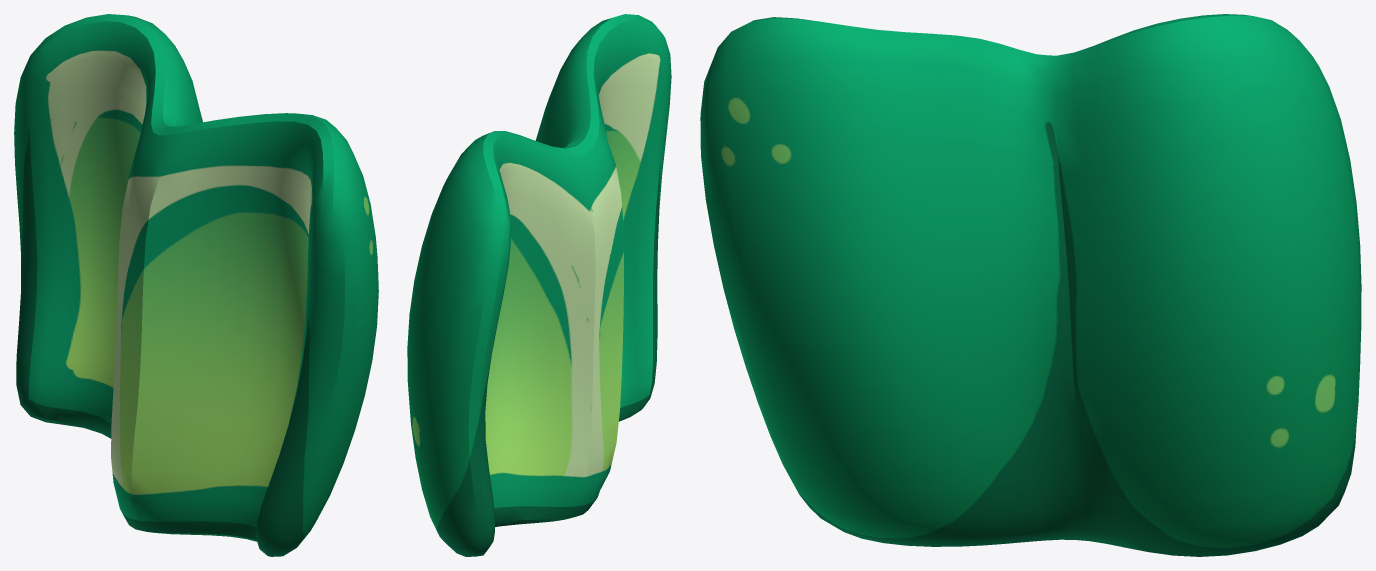
File: pepperSlice2_-_texture_res_change.fbx
3 views of the same model, side by side, from view 1: azimuth 30°, elevation 25°; view 2: azimuth 150°, elevation 25°; view 3: azimuth 270°, elevation 25° (orthographic). The views are drawn at different scales.
Parts seen in each view (by area): view 1: pepperSlice; view 2: pepperSlice; view 3: pepperSlice.
Boxes of the visible parts, x1,y1,x2,y2 form: pepperSlice: (14, 14, 378, 556); pepperSlice: (407, 14, 671, 556); pepperSlice: (700, 14, 1361, 556).
Size of the model in its own units: 54.86 by 151 by 161.
1 material, 1 textured.
